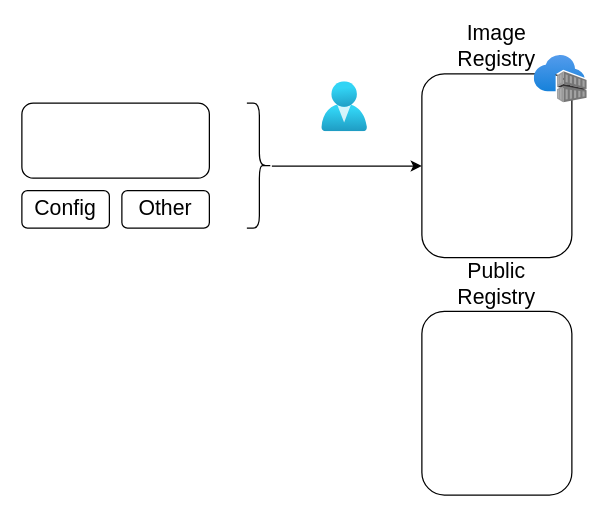
Some shapes in this 609 by 518 pixel diagram are drawn without their labels. The box of each missing label's shape, as (x1, y1, x2, y2) in pixels:
Application: (21, 102, 209, 178)
Dev: (321, 81, 367, 131)
